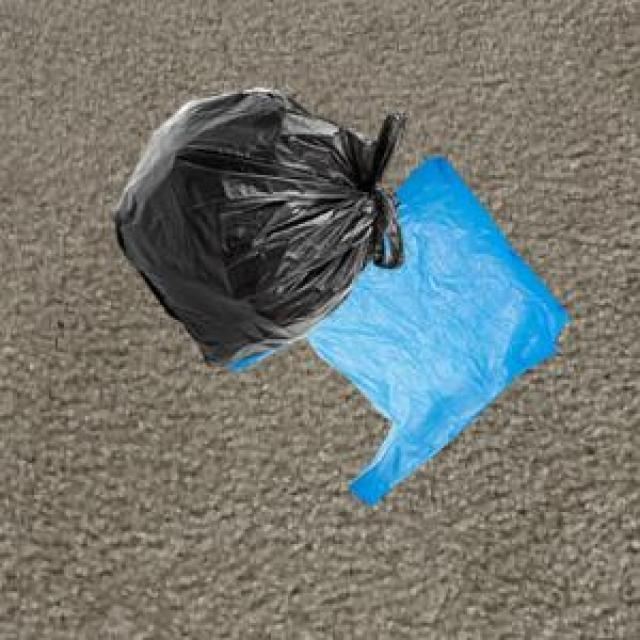miscellaneous trash: (109, 83, 401, 363)
